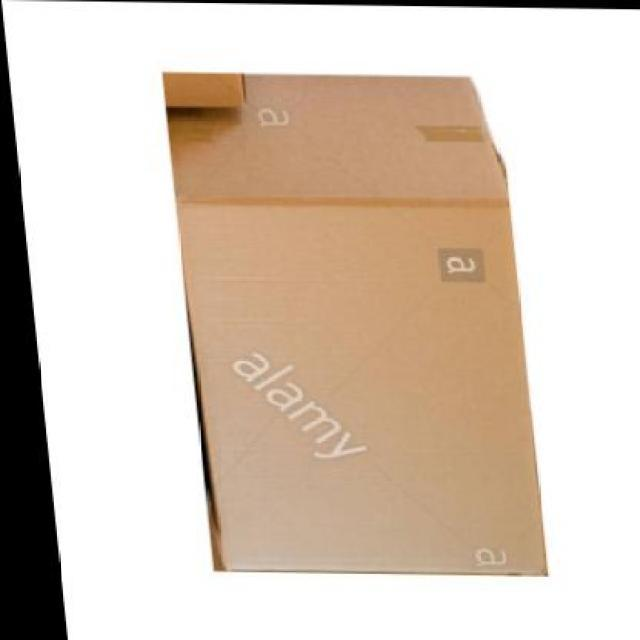box: (165, 72, 538, 573)
